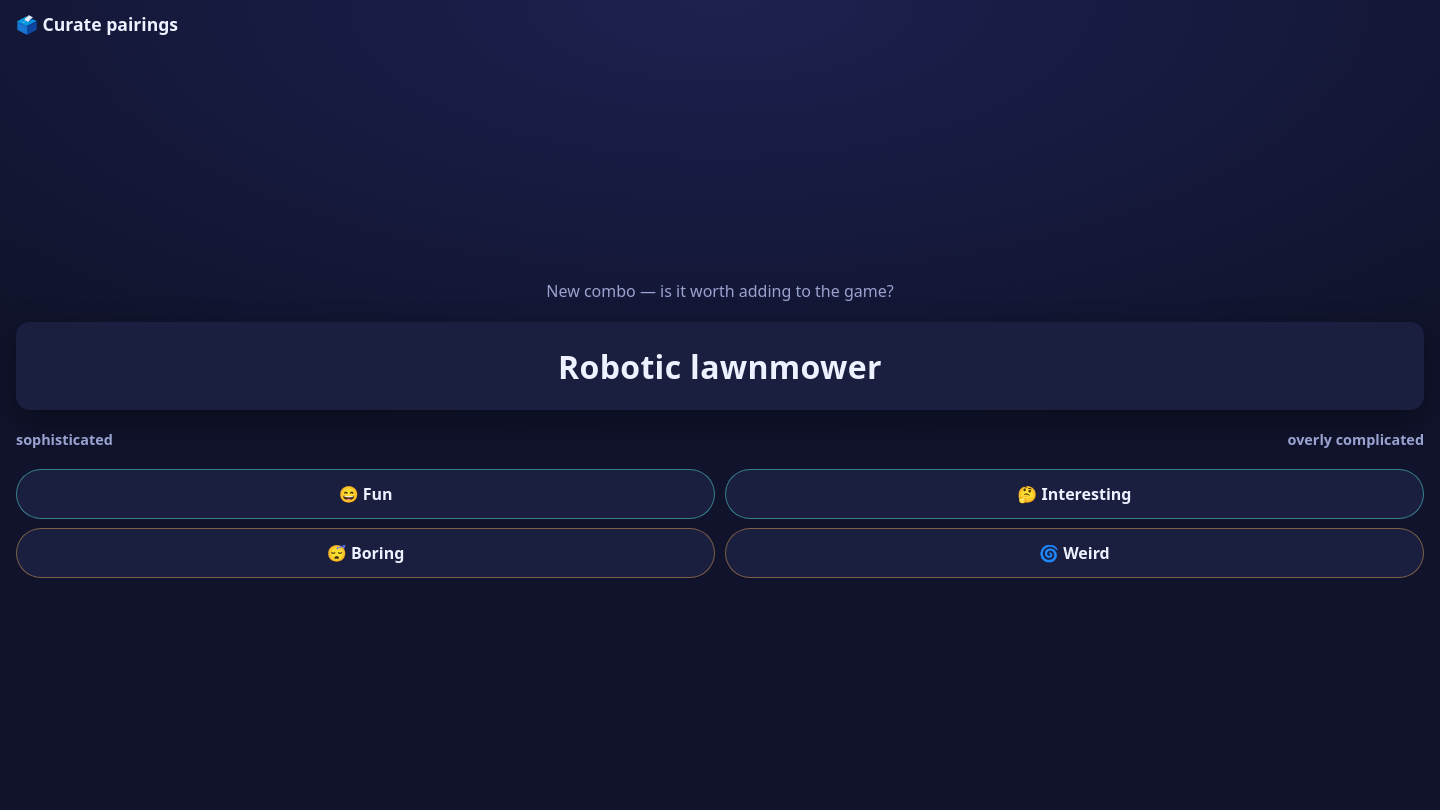
Test: VoteScreen › votes on a candidate, shows the outcome, and advances
Check: the heading "Robotic lawnmower" is shown, box [558,345,882,388]
Check: the text "New combo — is it worth adding to the game?" is shown, box [546,280,894,302]
Click the button "🤔 Interesting" at coordinates (1074, 494), box [725,469,1424,519]
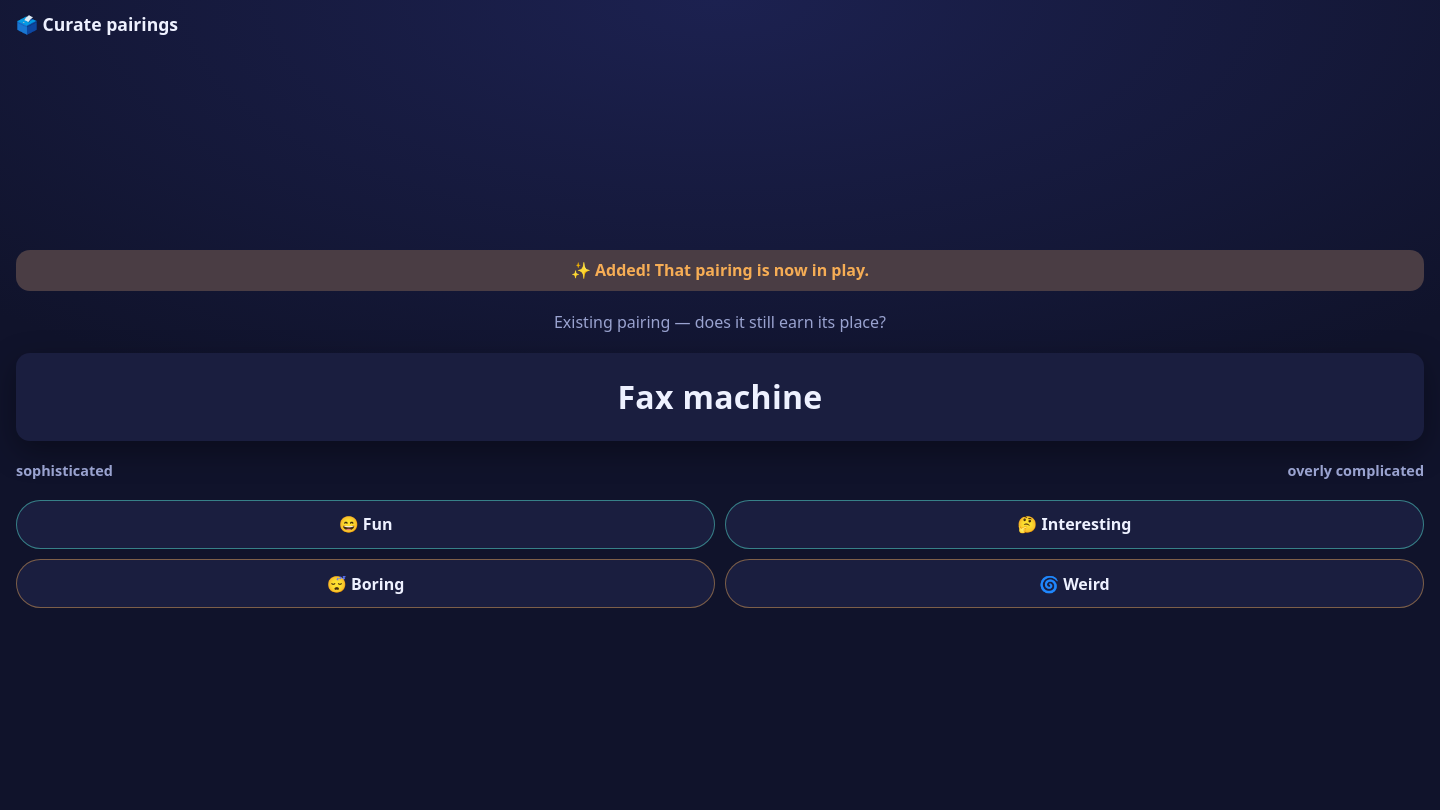
Check: the text "✨ Added! That pairing is now in play." is shown, box [16,250,1424,291]
Check: the heading "Fax machine" is shown, box [617,375,823,418]
Check: the text "Existing pairing — does it still earn its place?" is shown, box [554,311,886,333]
